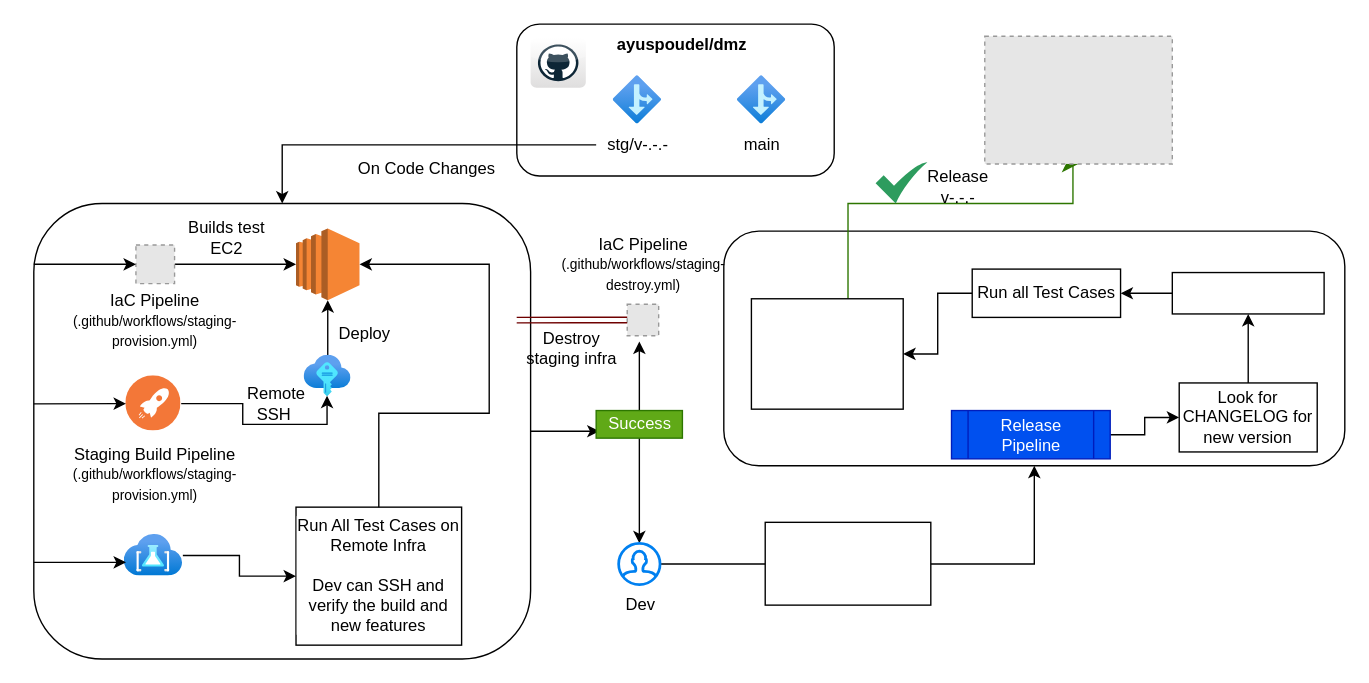
This 1369x683 diagram has some shape labels left out. Grey dashed boxes stand in for pictures. Here are the shapes that lost their labels. From the top down, the centre of each, then its label:
(x=1247, y=292): Prepare Release Notes
(x=826, y=353): Update Install Command in readme and install.sh pointing to latest version
(x=847, y=563): Pushes tag for new release after staging success- autoupdate cargo.toml
